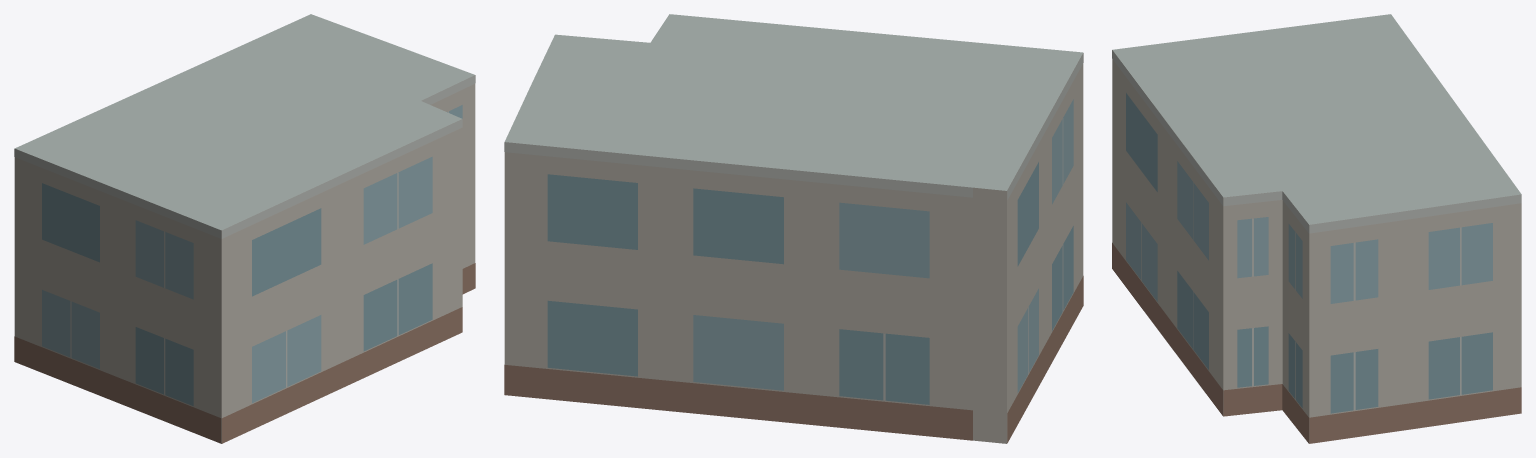
Rendered from survey-upis-32658880.glb.
The picture shows the model from 3 angles, left to right: view 1: azimuth 30°, elevation 25°; view 2: azimuth 150°, elevation 25°; view 3: azimuth 270°, elevation 25°; orthographic projection. The views are drawn at different scales.
Visible parts, largest first — view 1: survey-upis-32658880.tmp; view 2: survey-upis-32658880.tmp; view 3: survey-upis-32658880.tmp.
Part boxes in pixels (x1=…): survey-upis-32658880.tmp: x1=14, y1=14, x2=475, y2=443; survey-upis-32658880.tmp: x1=504, y1=14, x2=1083, y2=443; survey-upis-32658880.tmp: x1=1112, y1=14, x2=1521, y2=443.
Bounding box in the file's own units: 12.61 × 6.1 × 10.35.
